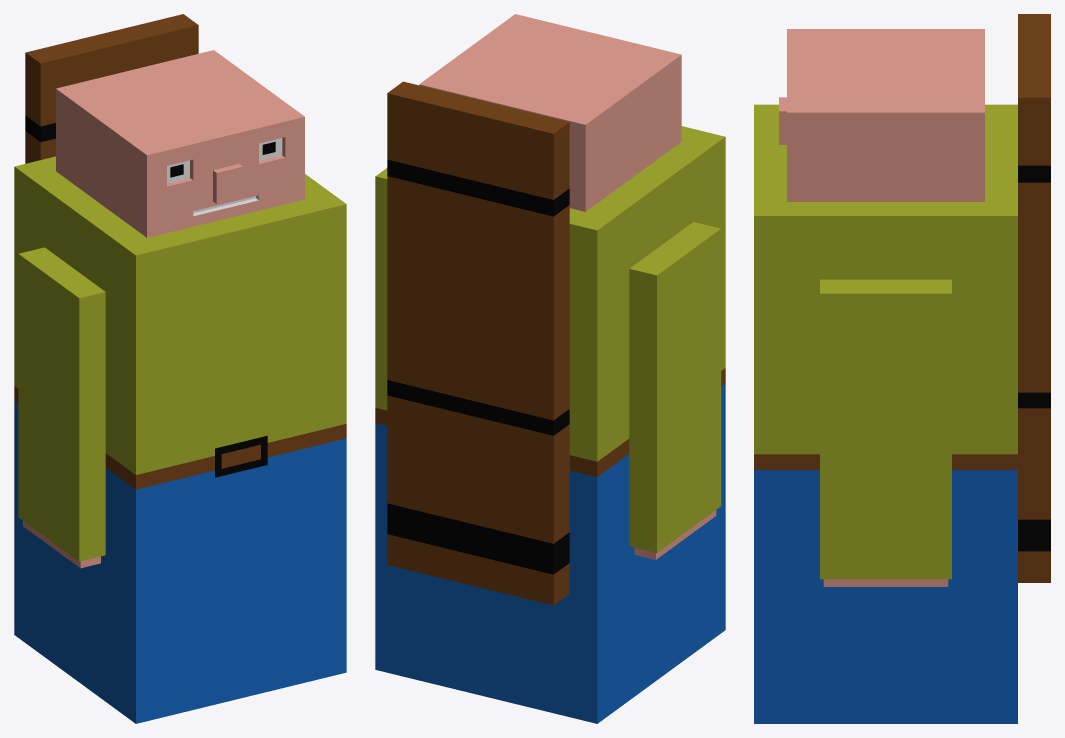
The model's file is Shopkeeper.fbx.
3 views of the same model, side by side, from view 1: azimuth 30°, elevation 25°; view 2: azimuth 150°, elevation 25°; view 3: azimuth 270°, elevation 25° (orthographic). The views are drawn at different scales.
Visible parts, largest first — view 1: Cube; view 2: Cube; view 3: Cube.
Part boxes in pixels (bbox=[...]): Cube: bbox=[14, 14, 346, 723]; Cube: bbox=[375, 14, 725, 723]; Cube: bbox=[754, 14, 1050, 723].
Bounding box in the file's own units: 200 × 410 × 180.
